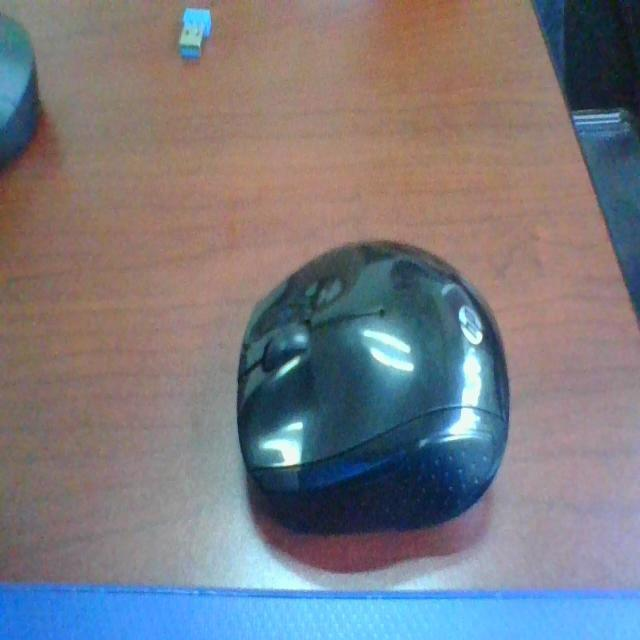mouse: (212, 219, 538, 541)
